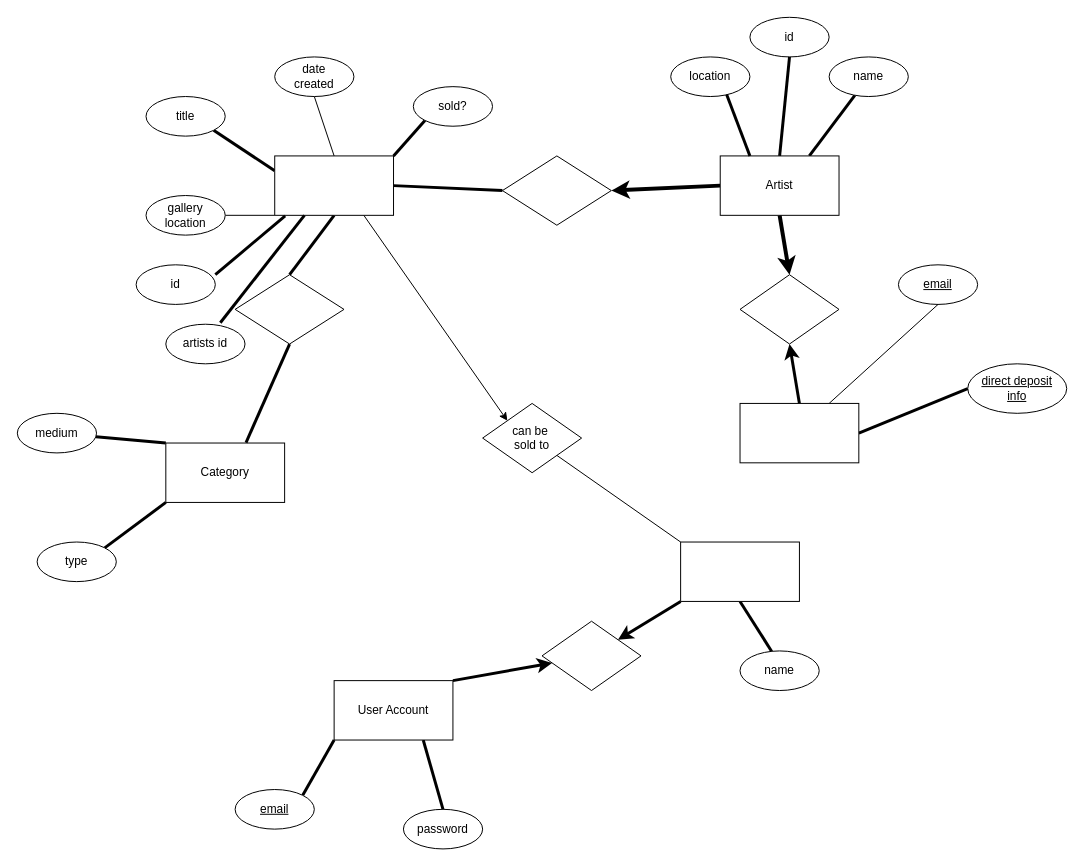
The diagram is 1084 pixels wide and 866 high, and some of its shapes have lost their labels. Here are the shapes that lost their labels. From the top down, the centre of each, then its label:
At point (334, 185): "Artwork".
At point (556, 190): "made by".
At point (289, 309): "belongs to".
At point (789, 309): "has an".
At point (799, 432): "Artist Account".
At point (739, 571): "Customer".
At point (591, 655): "has a".
